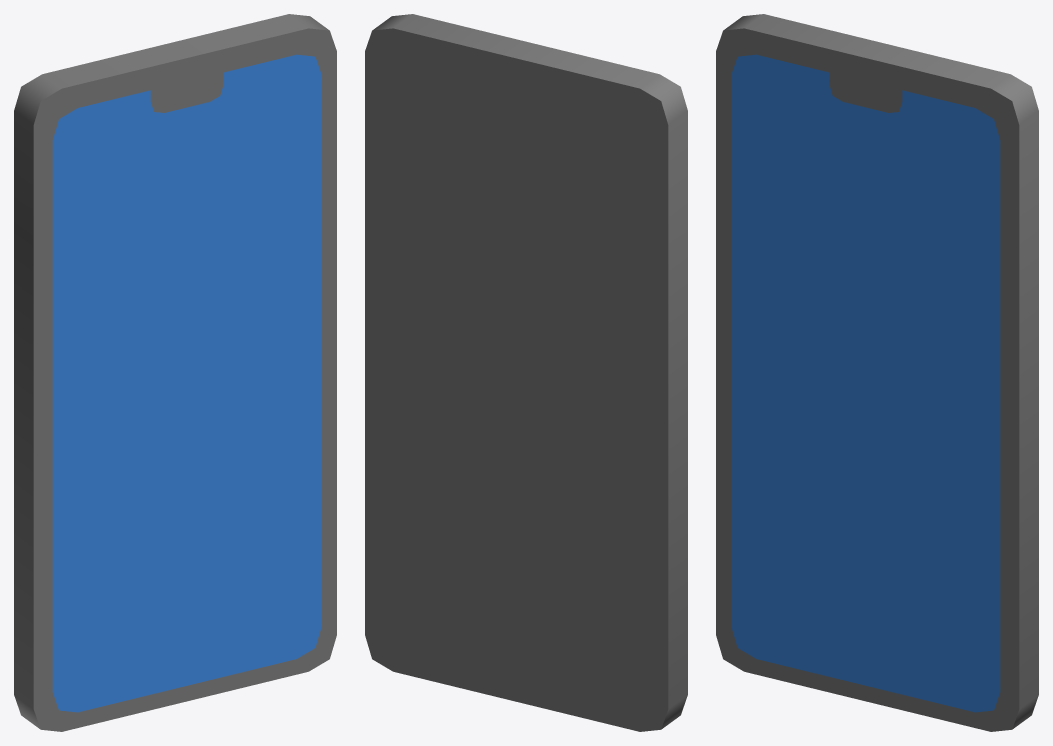
The model's file is SM_phone.fbx.
3 renders of one model, left to right at view 1: azimuth 30°, elevation 25°; view 2: azimuth 150°, elevation 25°; view 3: azimuth 330°, elevation 25°, orthographic.
Parts seen in each view (by area): view 1: cristal low, phone_low; view 2: phone_low; view 3: cristal low, phone_low.
Boxes of the visible parts, <box> form: cristal low: <box>52,54,321,712</box>; phone_low: <box>14,14,336,731</box>; phone_low: <box>365,14,687,731</box>; cristal low: <box>731,54,1000,712</box>; phone_low: <box>716,14,1038,731</box>.
Bounding box in the file's own units: 118 × 239 × 14.53.
